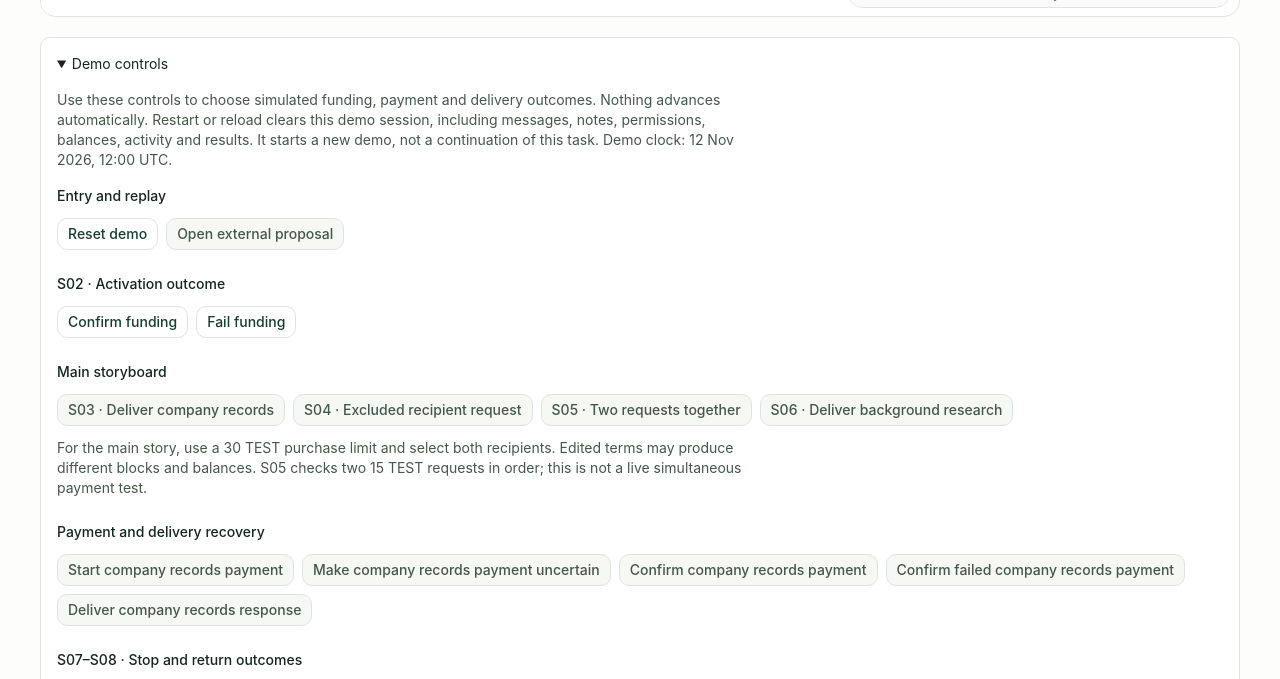
it: 05 panel names evidence and receipt destinations without losing source identity
Earlier steps of the test are not shown.
(page scrolled)
What coordinates should you click on to do the following:
click the button "Confirm funding"
I would click on:
 (123, 322)
Its box is [57,306,188,338].
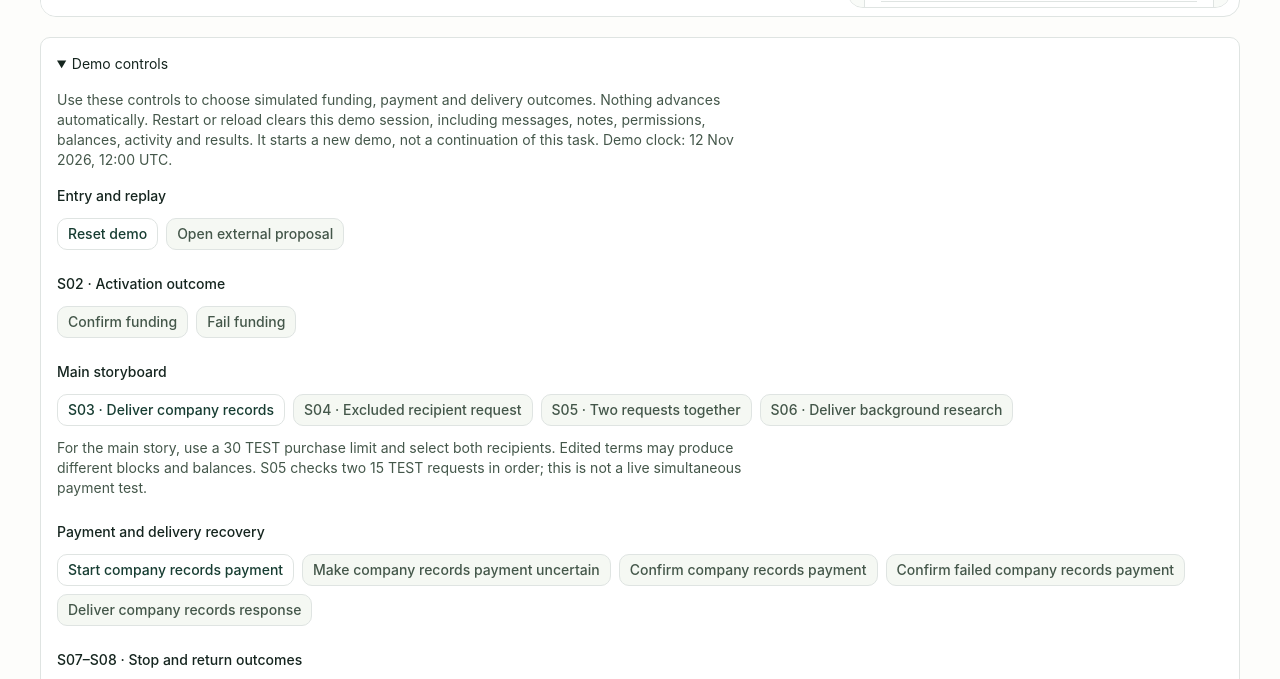
What coordinates should you click on to do the following:
click the button "S03 · Deliver company records"
I would click on:
 (171, 410)
Its box is [57,394,285,426].
(page scrolled)
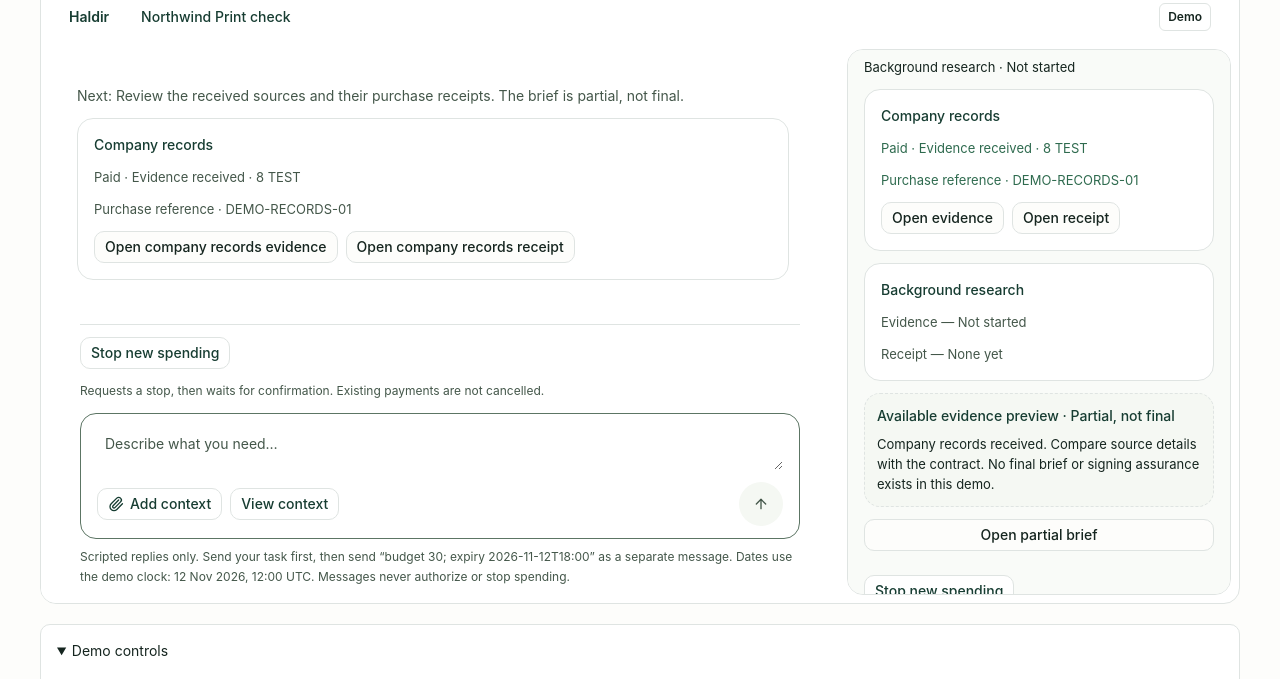
Check: the button "Open evidence" is shown, box [881,202,1004,234]
Check: the button "Open receipt" is shown, box [1012,202,1120,234]
Check: the element named "Background research result" shows "Receipt — None yet", box [881,346,1003,362]
